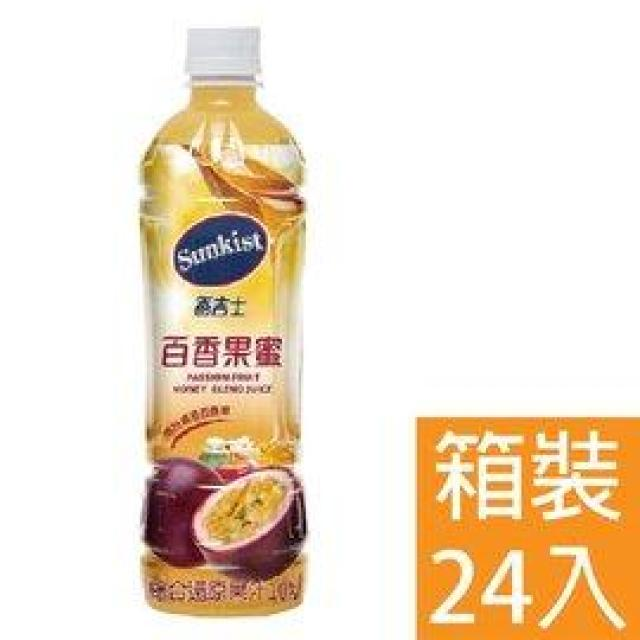bottle: (129, 18, 314, 622)
